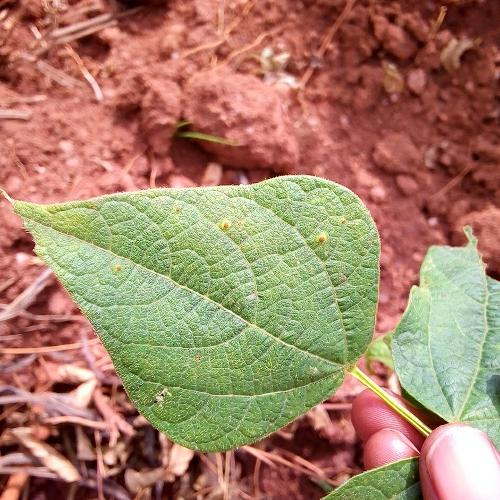mozaik: (97, 202, 390, 408)
sehat: (152, 190, 368, 444), (196, 200, 355, 328)
